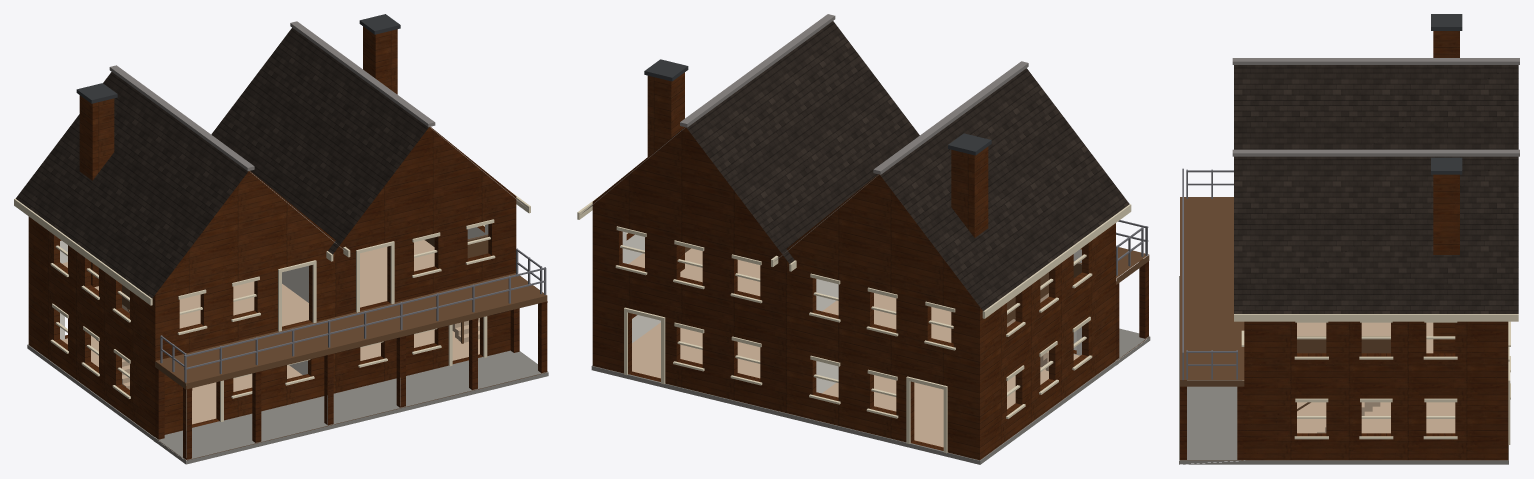
The model's file is rw-cabin-duplex.towns-v2.lod0.glb.
The picture shows the model from 3 angles, left to right: view 1: azimuth 30°, elevation 25°; view 2: azimuth 150°, elevation 25°; view 3: azimuth 270°, elevation 25°; orthographic projection. The views are drawn at different scales.
Parts seen in each view (by area): view 1: rw-cabin-duplex; view 2: rw-cabin-duplex; view 3: rw-cabin-duplex.
Boxes of the visible parts, box(x1,y1,x2,y2) form: rw-cabin-duplex: box(14, 14, 548, 464); rw-cabin-duplex: box(577, 14, 1150, 464); rw-cabin-duplex: box(1179, 14, 1519, 464).
Size of the model in its own units: 15.58 by 10.57 by 11.63.
Materials: 5 (2 with a texture image).
